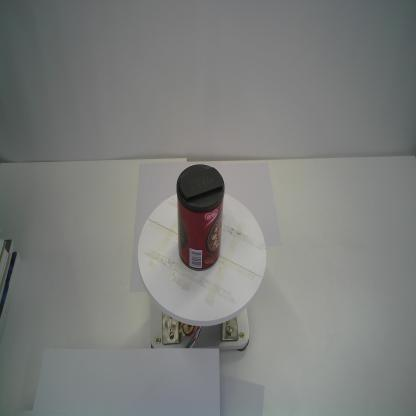Canned Food: (174, 162, 226, 275)
